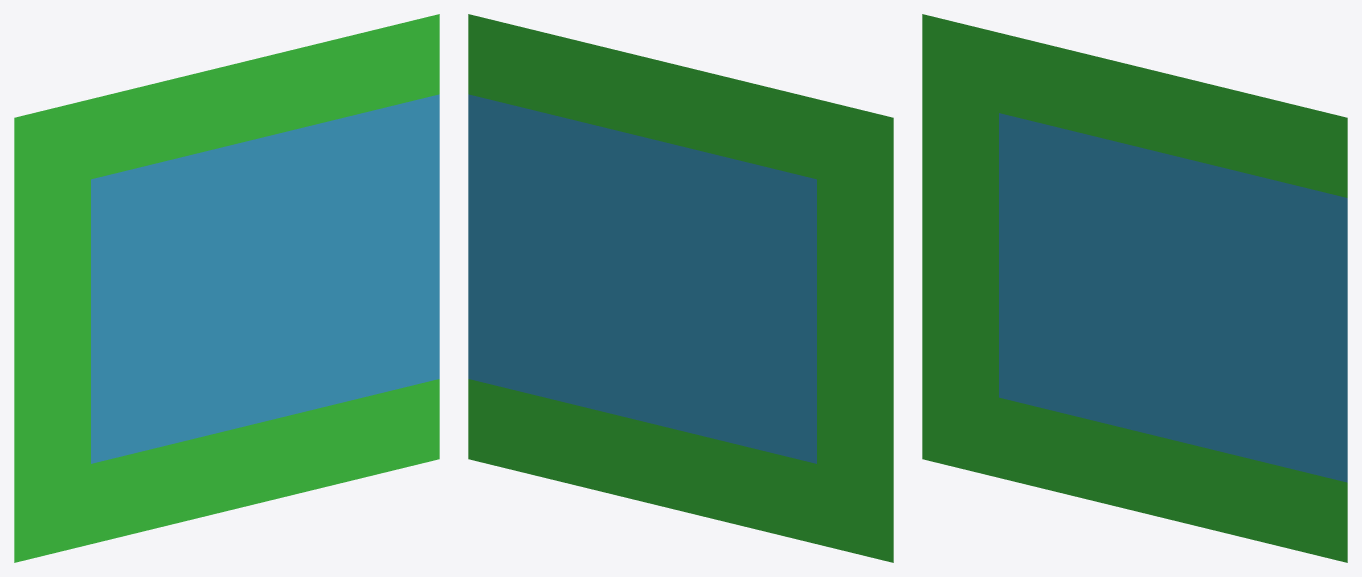
The model's file is pond1.glb.
3 renders of one model, left to right at view 1: azimuth 30°, elevation 25°; view 2: azimuth 150°, elevation 25°; view 3: azimuth 330°, elevation 25°, orthographic.
Visible parts, largest first — view 1: Plane; view 2: Plane; view 3: Plane.
Part boxes in pixels (left/top/right/bottom): Plane: left=14, top=14, right=439, bottom=562; Plane: left=468, top=14, right=893, bottom=562; Plane: left=922, top=14, right=1347, bottom=562.
Size of the model in its own units: 1 by 1 by 7.39e-06.
